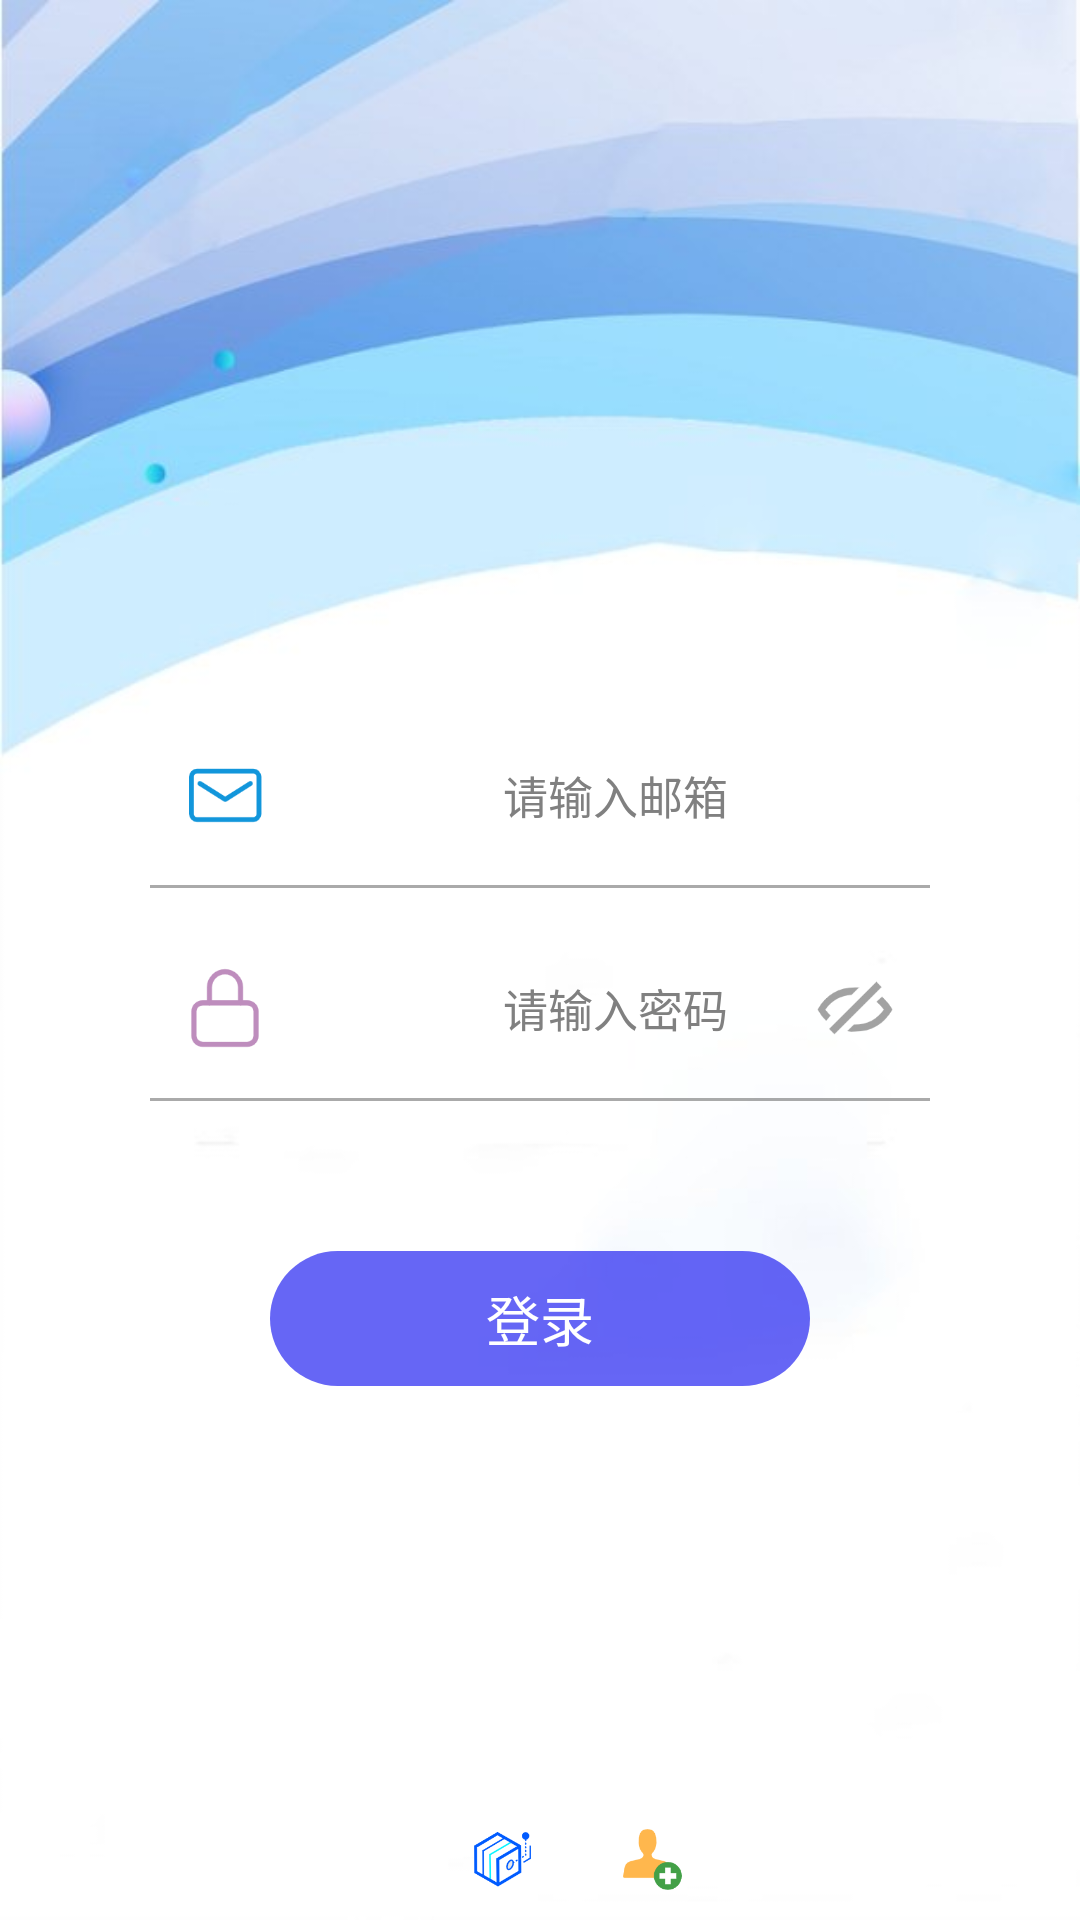

Named icons in this screenshot (1080x1920) and their centers, (x=x, y=y):
email: (x=225, y=795)
pass noshow: (x=855, y=1008)
passwd: (x=225, y=1008)
server: (x=502, y=1859)
sign: (x=652, y=1859)
